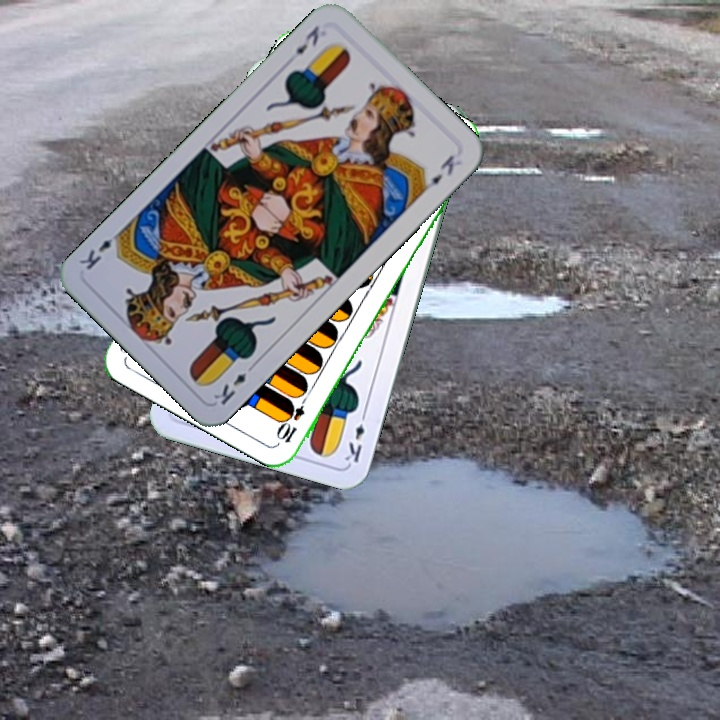E10: (274, 389, 312, 446)
EK: (209, 359, 259, 408), (341, 407, 369, 466), (291, 21, 322, 58)
